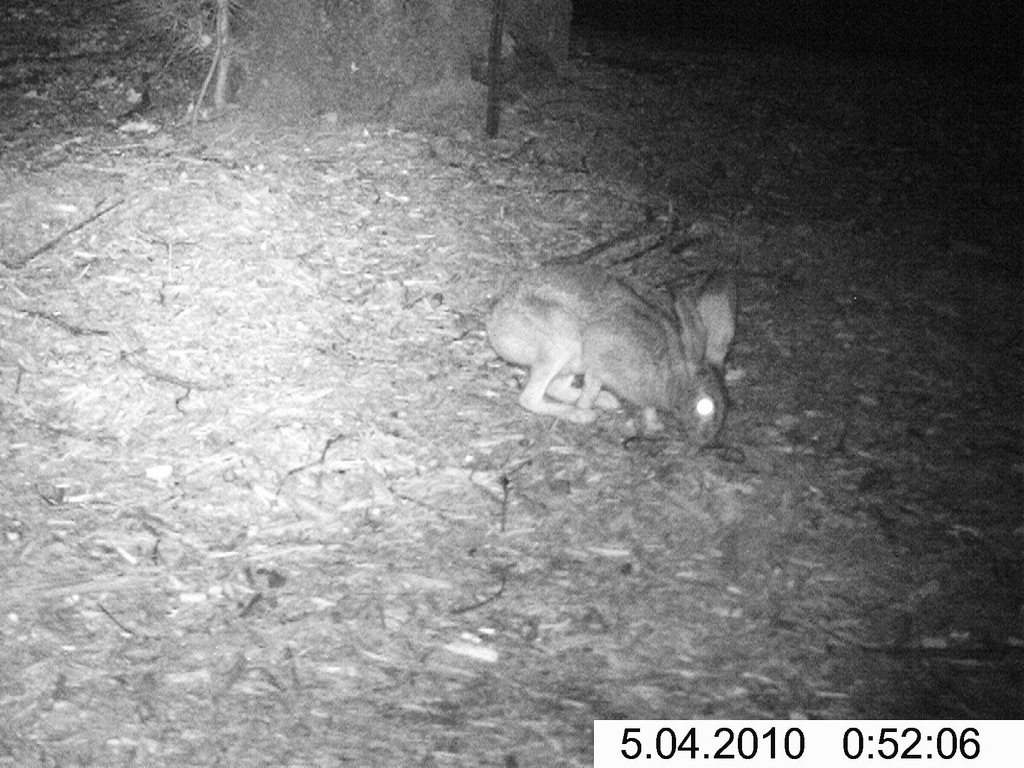rabbit: (455, 212, 762, 464)
